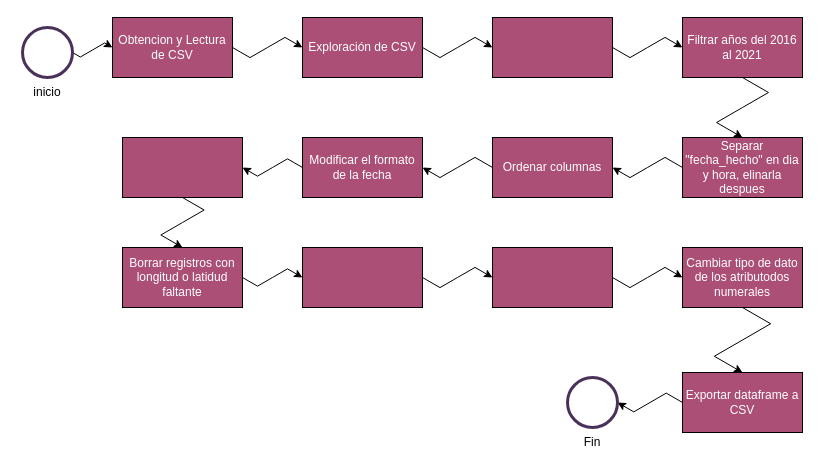
The diagram is 820 pixels wide and 475 high, and some of its shapes have lost their labels. The shapes that lost their labels are listed below. From the top down, each one's centre as x and y in pixels, then its label:
(552,47): Eliminación de columnas
(182,167): Conversión de hora a tipo Time
(362,277): Imputar datos para edad y sexo
(552,277): Eliminar redundancia de datos
